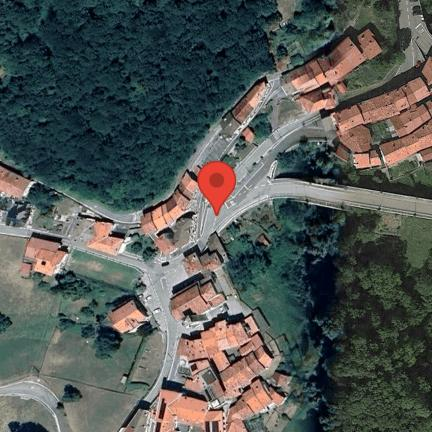area_open: (182, 137, 283, 256), (136, 266, 190, 335), (391, 22, 432, 92), (208, 266, 251, 324), (265, 77, 304, 133), (190, 127, 232, 176), (303, 108, 340, 148), (0, 196, 33, 228), (163, 352, 189, 392), (68, 209, 96, 246), (110, 223, 142, 238), (181, 326, 202, 340)
built: (154, 316, 291, 432), (338, 57, 432, 167), (281, 28, 383, 114), (140, 171, 199, 235), (222, 82, 268, 139), (169, 280, 225, 324), (18, 237, 69, 279), (336, 124, 381, 168), (183, 231, 226, 277), (108, 298, 151, 334), (153, 219, 195, 255), (84, 222, 124, 256), (0, 166, 30, 199)
vegetation_high: (0, 0, 275, 205), (327, 213, 432, 431), (280, 202, 338, 328), (274, 145, 344, 183), (26, 184, 57, 210)
vegetation_low: (0, 234, 168, 432), (220, 200, 320, 432), (340, 1, 399, 89), (270, 0, 343, 71), (364, 214, 431, 268), (346, 158, 431, 199), (224, 111, 269, 169), (31, 197, 82, 238), (0, 395, 56, 432), (124, 237, 158, 256), (372, 118, 394, 145)
water: (285, 392, 327, 430)
